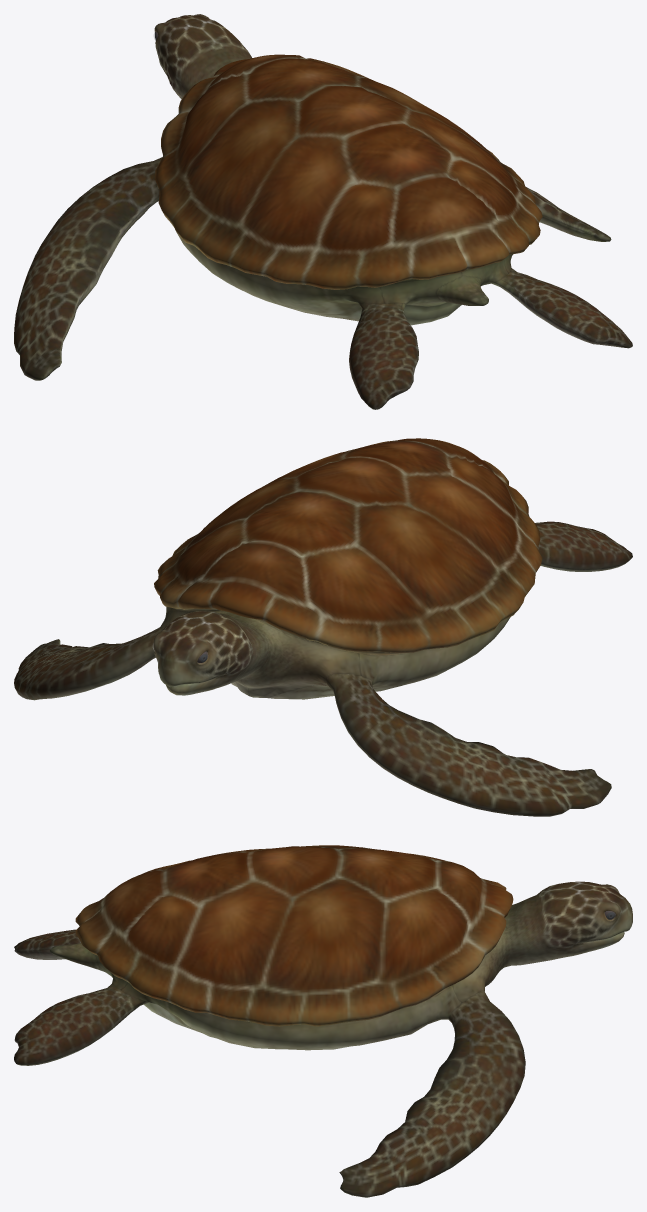
File: sea-turtle-low-poly-c92be5.glb
3 renders of one model, top to bottom at view 1: azimuth 30°, elevation 25°; view 2: azimuth 150°, elevation 25°; view 3: azimuth 270°, elevation 25°, orthographic. The views are drawn at different scales.
Visible parts, largest first — view 1: PropMesh; view 2: PropMesh; view 3: PropMesh.
Part boxes in pixels (x1,y1,x2,y2): PropMesh: (14,14,632,409); PropMesh: (14,438,632,816); PropMesh: (14,845,632,1197).
Size of the model in its own units: 1.09 by 0.4202 by 1.1.
Materials: 3 (2 with a texture image).
